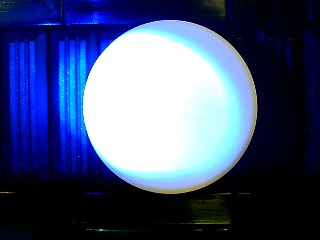BLANK: (83, 19, 257, 194)
